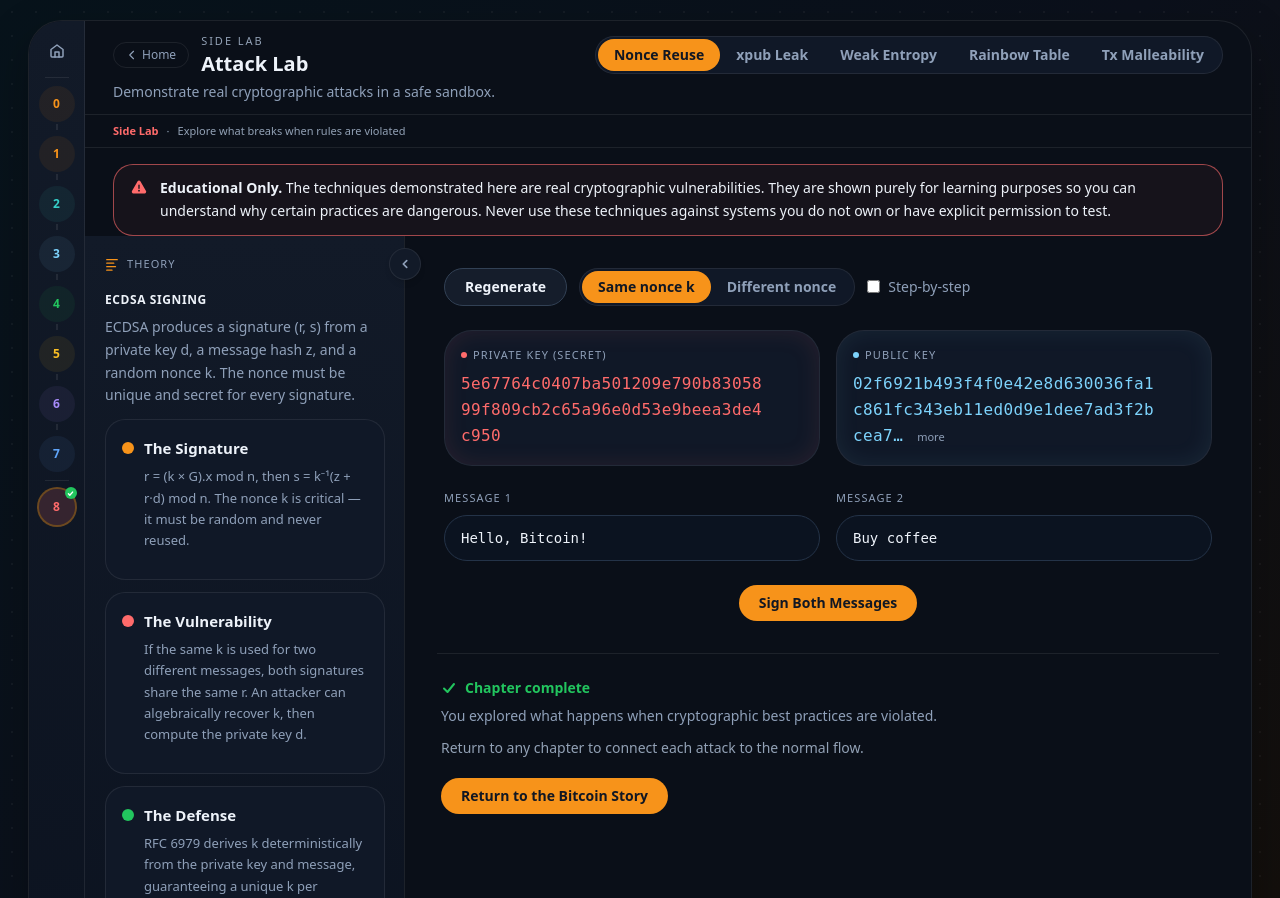
Test: AttackLab › switches to Tx Malleability tab and shows Malleate button
The image size is (1280, 898).
Click the tab "Tx Malleability": (1153, 55) [1086, 39, 1220, 71]
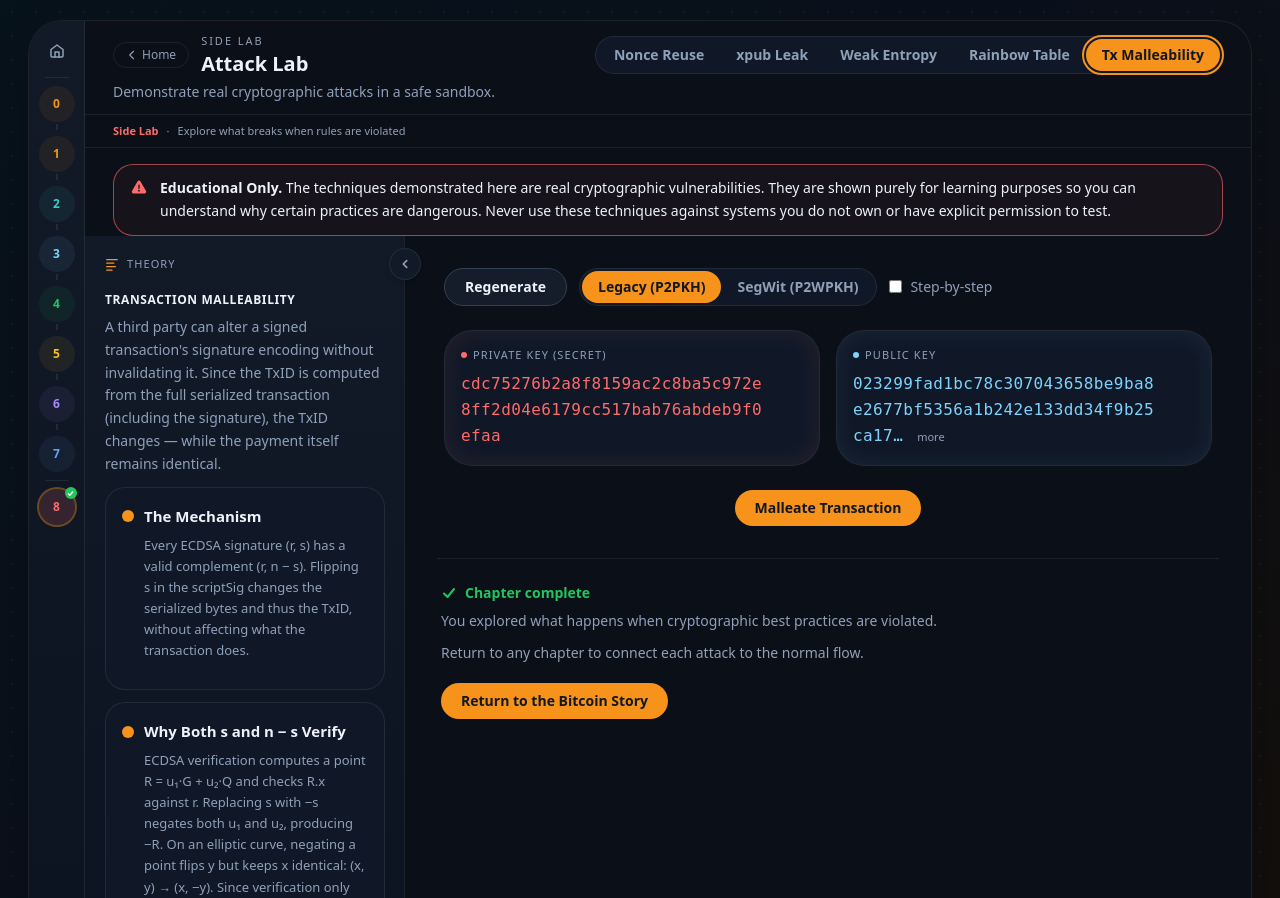
Expected: the button "Malleate Transaction" is shown, [735, 490, 922, 526]
